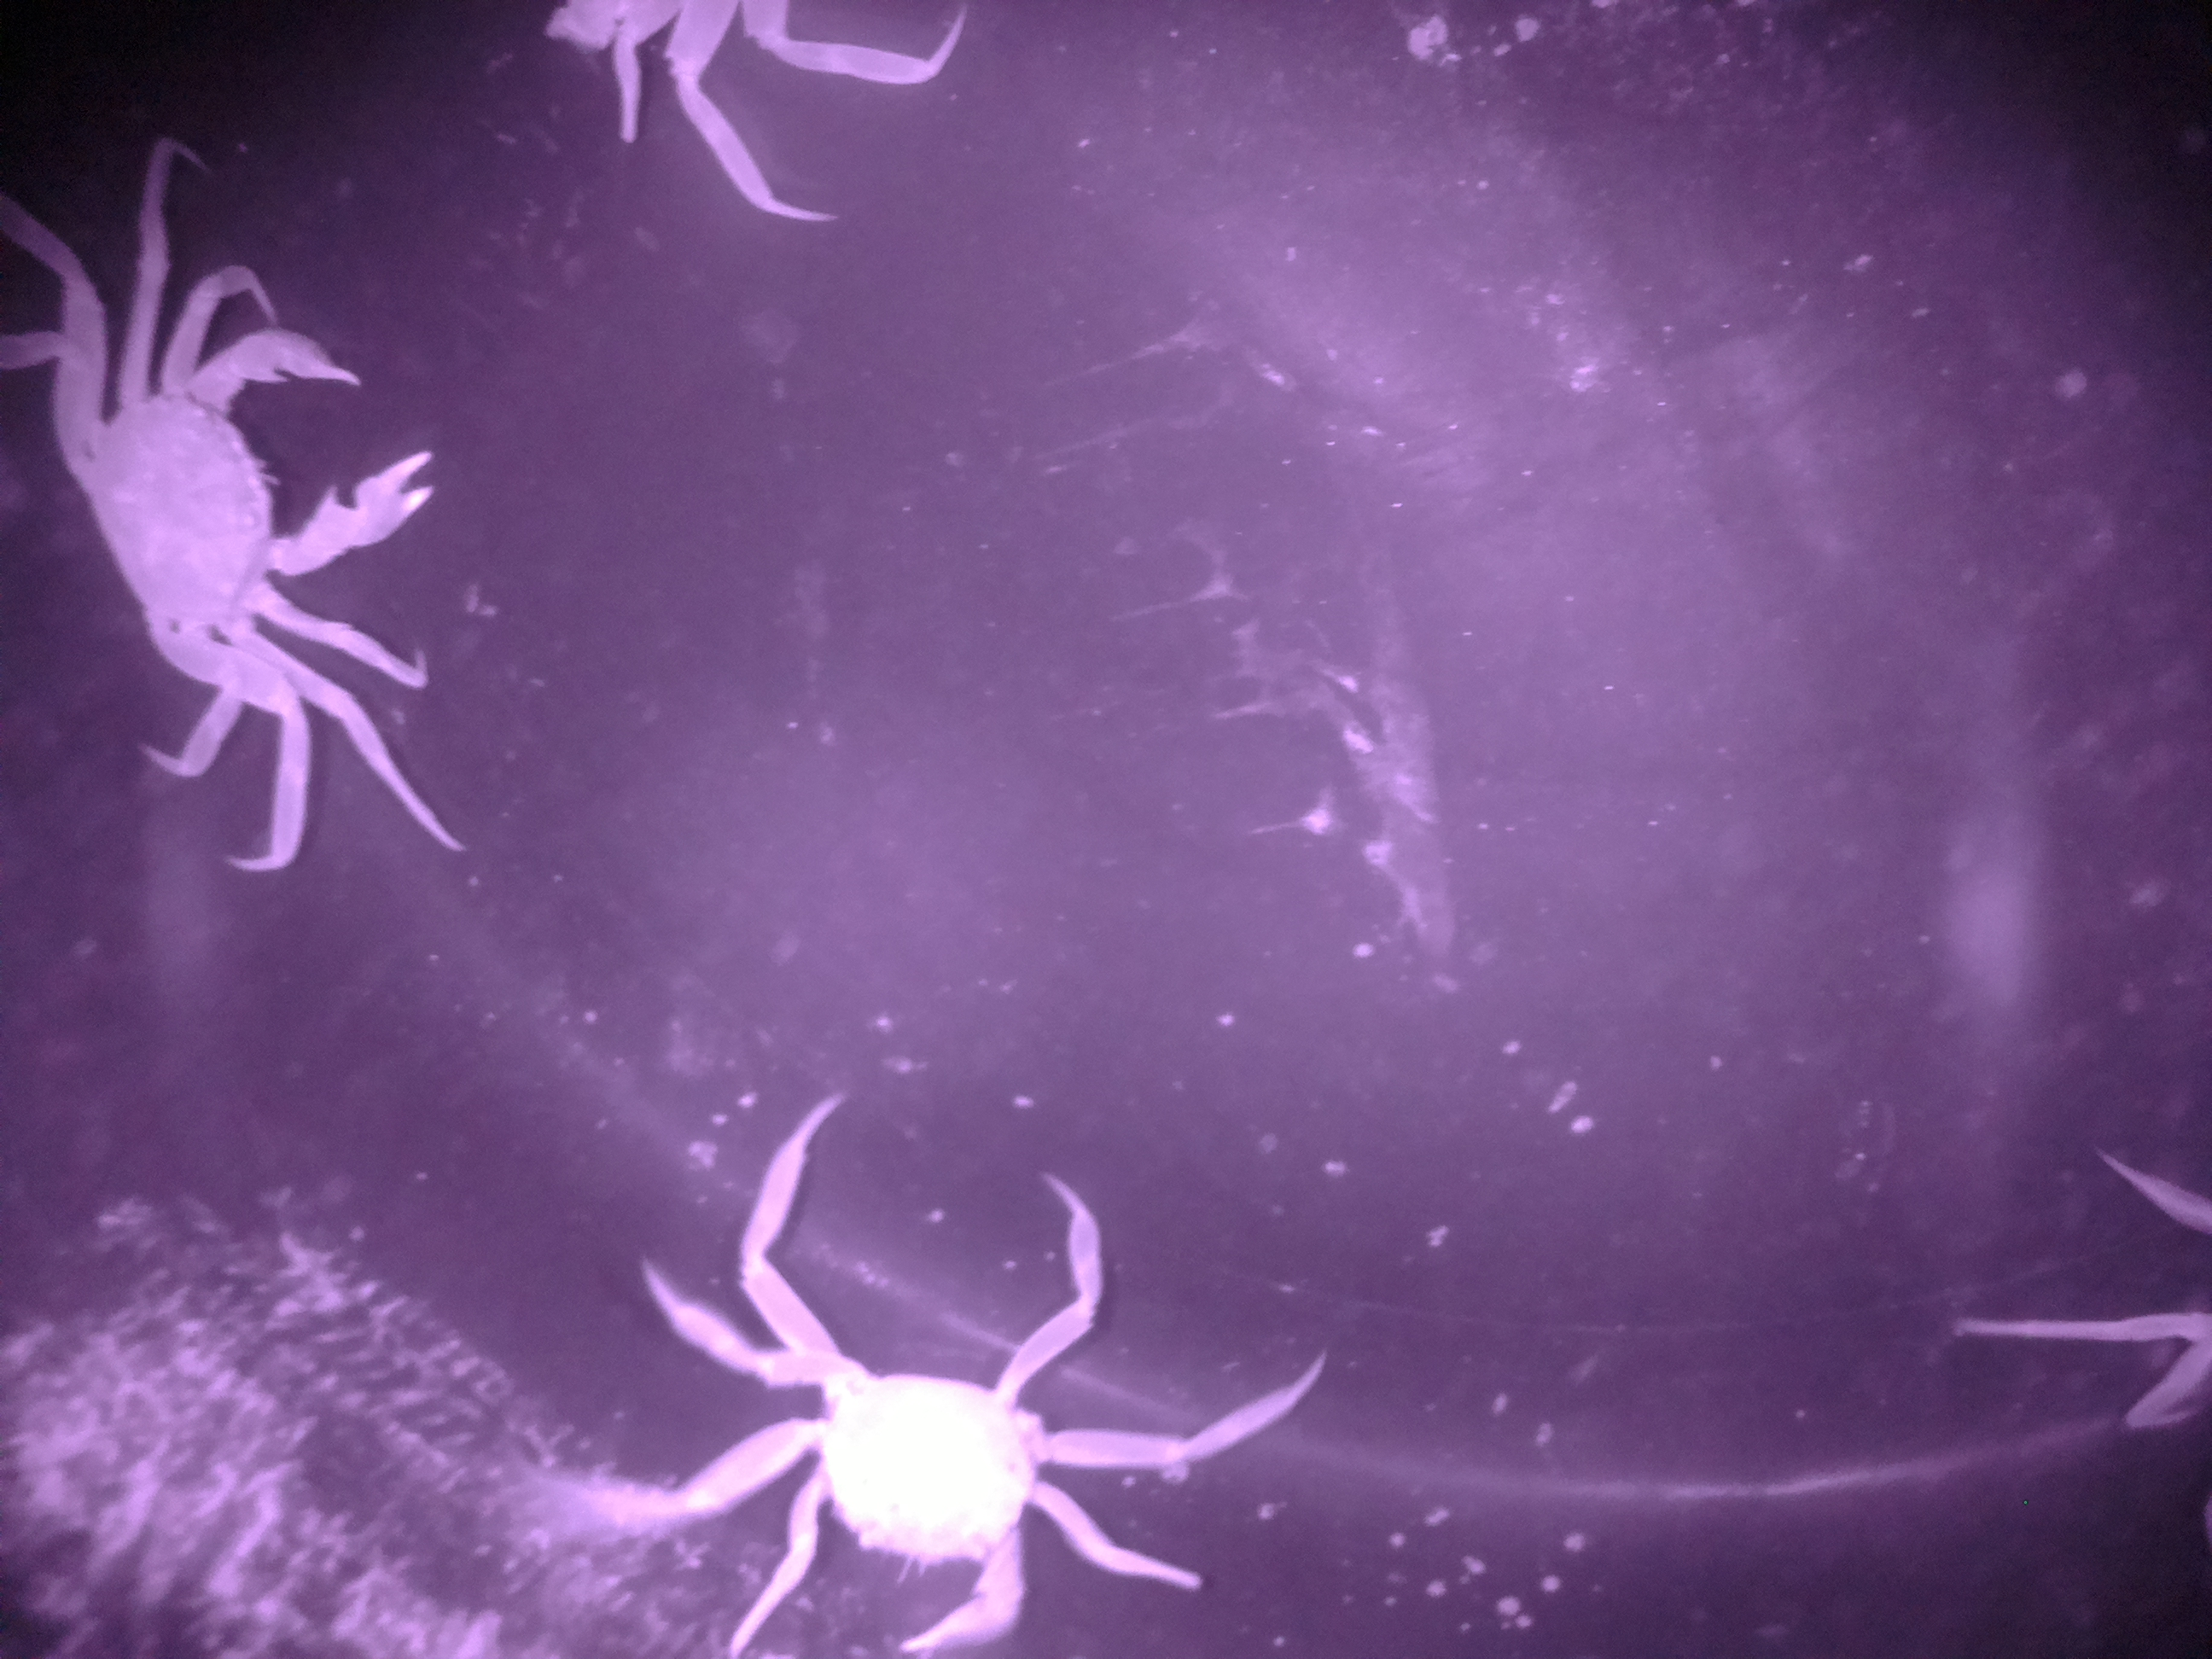Crab: (26, 307, 493, 744), (709, 1244, 1118, 1659)
